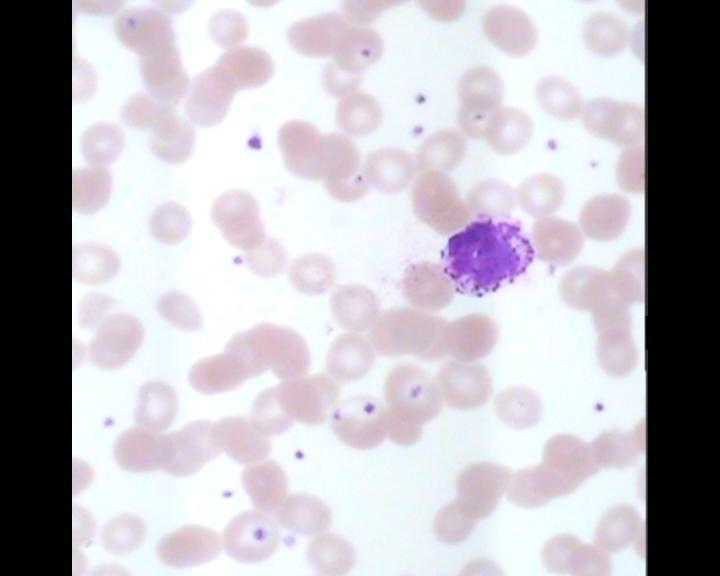baso: (435, 210, 537, 298)
